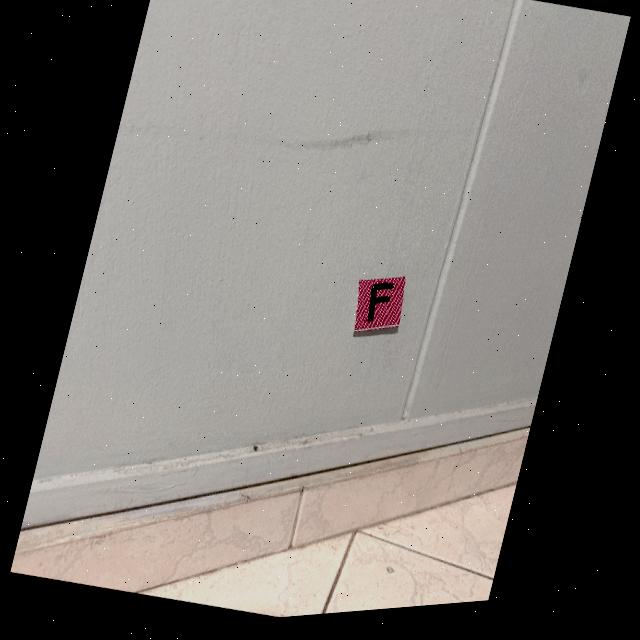F: (367, 290, 393, 328)
